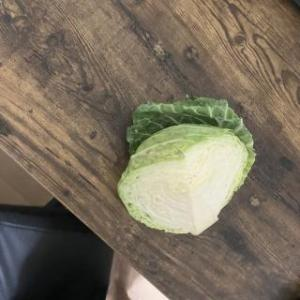cabbage: (116, 96, 256, 238)
